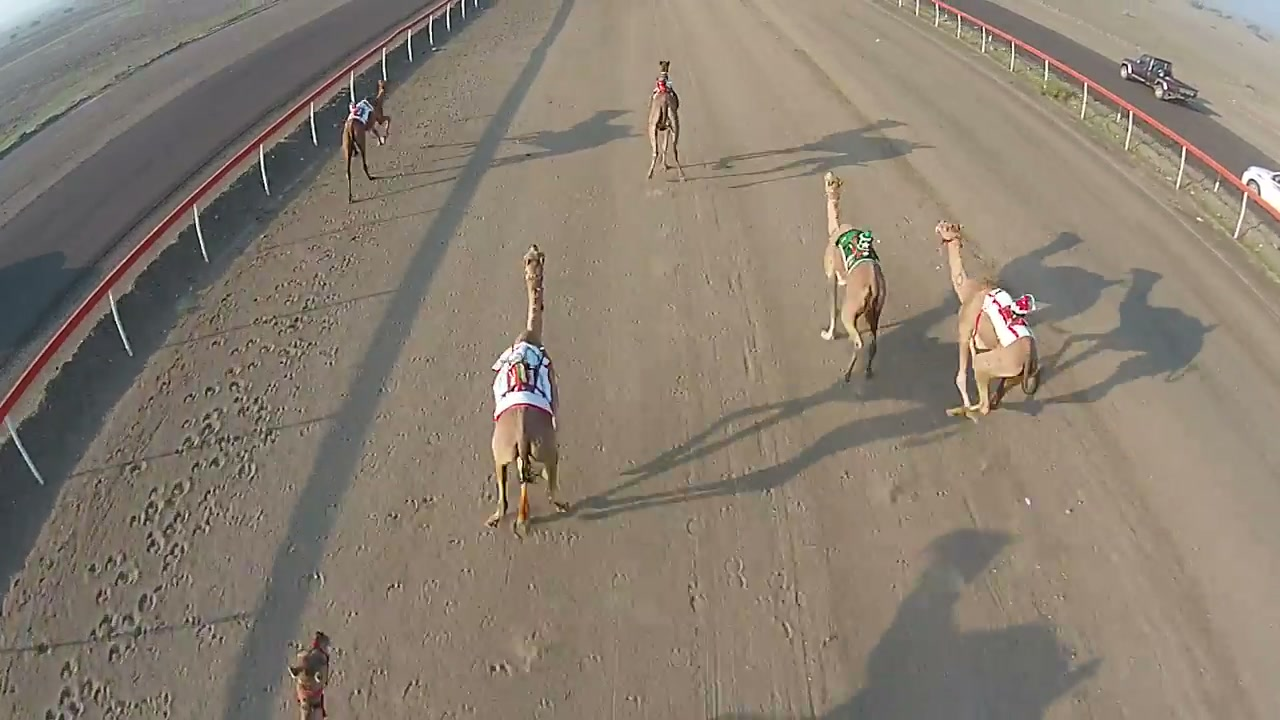animal_foot_print: (18, 204, 420, 715)
